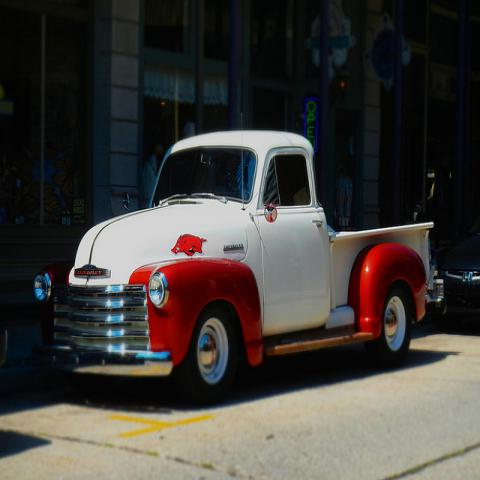truck: (25, 132, 446, 398)
